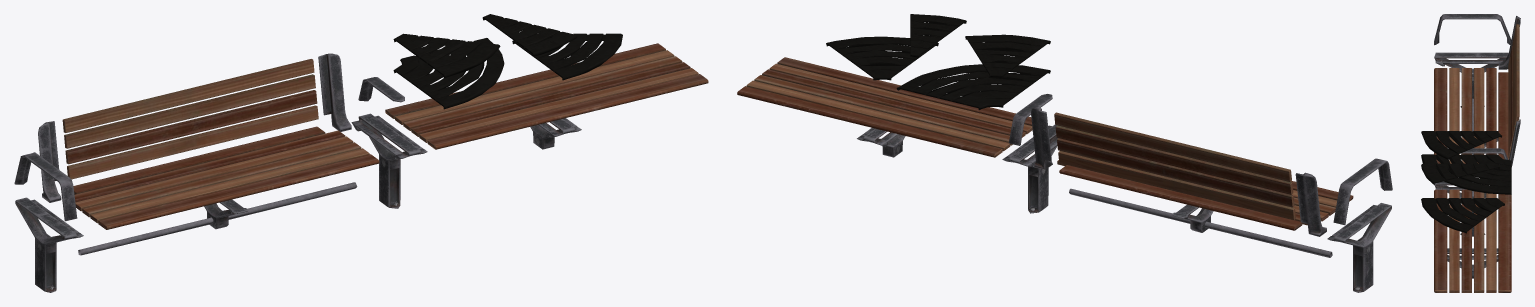
Rendered from modular_street_seating.lod1.glb.
3 renders of one model, left to right at view 1: azimuth 30°, elevation 25°; view 2: azimuth 150°, elevation 25°; view 3: azimuth 270°, elevation 25°, orthographic. The views are drawn at different scales.
Visible parts, largest first — view 1: seat_back, seat, seat_bench, connector_90, legs_double, connector_45, legs_single, connector_60, crossbar, connector_30, back_support_l, arm_rest_01 (+4 smaller); view 2: seat_bench, seat_back, connector_90, seat, connector_60, legs_single, connector_45, crossbar, legs_double, connector_30, arm_rest_01, back_support_r (+4 smaller); view 3: seat_bench, seat, connector_90, connector_60, connector_45, seat_back, legs_single, connector_30, arm_rest_01, legs_double, arm_rest_02, back_support_r (+3 smaller).
Boxes of the visible parts, bbox=[...] form: seat_back: bbox=[62, 59, 318, 179]; seat: bbox=[73, 126, 379, 229]; seat_bench: bbox=[385, 43, 708, 149]; connector_90: bbox=[393, 38, 504, 109]; legs_double: bbox=[351, 113, 427, 208]; connector_45: bbox=[393, 33, 500, 78]; legs_single: bbox=[15, 197, 83, 292]; connector_60: bbox=[512, 33, 622, 80]; crossbar: bbox=[78, 182, 357, 255]; connector_30: bbox=[482, 14, 576, 56]; back_support_l: bbox=[318, 53, 351, 131]; arm_rest_01: bbox=[14, 152, 77, 221]; seat_bench: bbox=[737, 57, 1032, 157]; seat_back: bbox=[1054, 112, 1295, 220]; connector_90: bbox=[896, 64, 1050, 110]; seat: bbox=[1057, 160, 1353, 230]; connector_60: bbox=[826, 36, 938, 80]; legs_single: bbox=[1327, 203, 1391, 292]; connector_45: bbox=[965, 34, 1050, 78]; crossbar: bbox=[1069, 188, 1332, 257]; legs_double: bbox=[1002, 124, 1057, 213]; connector_30: bbox=[910, 14, 966, 57]; arm_rest_01: bbox=[1333, 158, 1392, 225]; back_support_r: bbox=[1295, 172, 1326, 236]; seat_bench: bbox=[1434, 189, 1511, 292]; seat: bbox=[1434, 68, 1509, 163]; connector_90: bbox=[1421, 154, 1511, 194]; connector_60: bbox=[1421, 198, 1504, 233]; connector_45: bbox=[1421, 131, 1501, 159]; seat_back: bbox=[1508, 24, 1519, 157]; legs_single: bbox=[1434, 52, 1508, 107]; connector_30: bbox=[1421, 163, 1499, 184]; arm_rest_01: bbox=[1434, 14, 1511, 45]; legs_double: bbox=[1434, 181, 1486, 236]; arm_rest_02: bbox=[1461, 148, 1508, 159]; back_support_r: bbox=[1498, 16, 1520, 69].
Bounding box in the file's own units: 4.34 × 0.95 × 0.7704.
4 materials, 4 textured.
